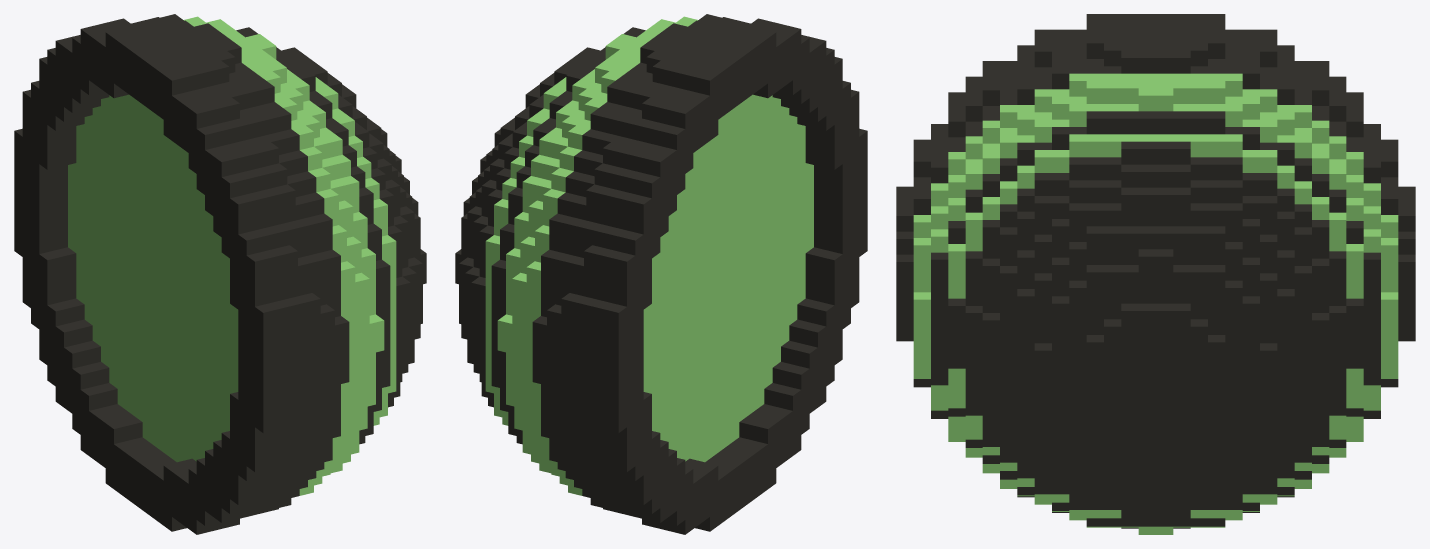
File: factory4.2-8.obj
3 renders of one model, left to right at view 1: azimuth 30°, elevation 25°; view 2: azimuth 150°, elevation 25°; view 3: azimuth 270°, elevation 25°, orthographic. The views are drawn at different scales.
Size of the model in its own units: 1.7 by 3 by 3.
1 material, 1 textured.
